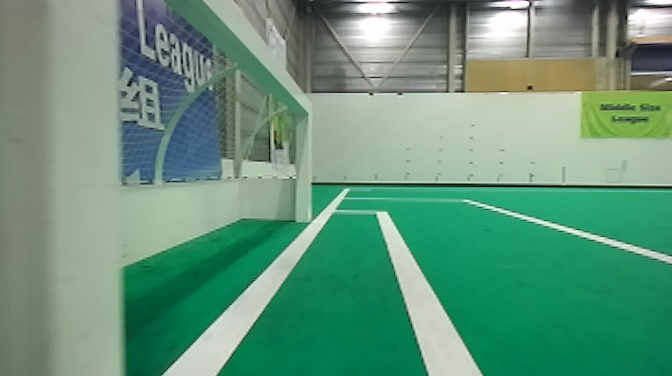goalpost: (1, 1, 127, 373), (292, 86, 316, 230)
